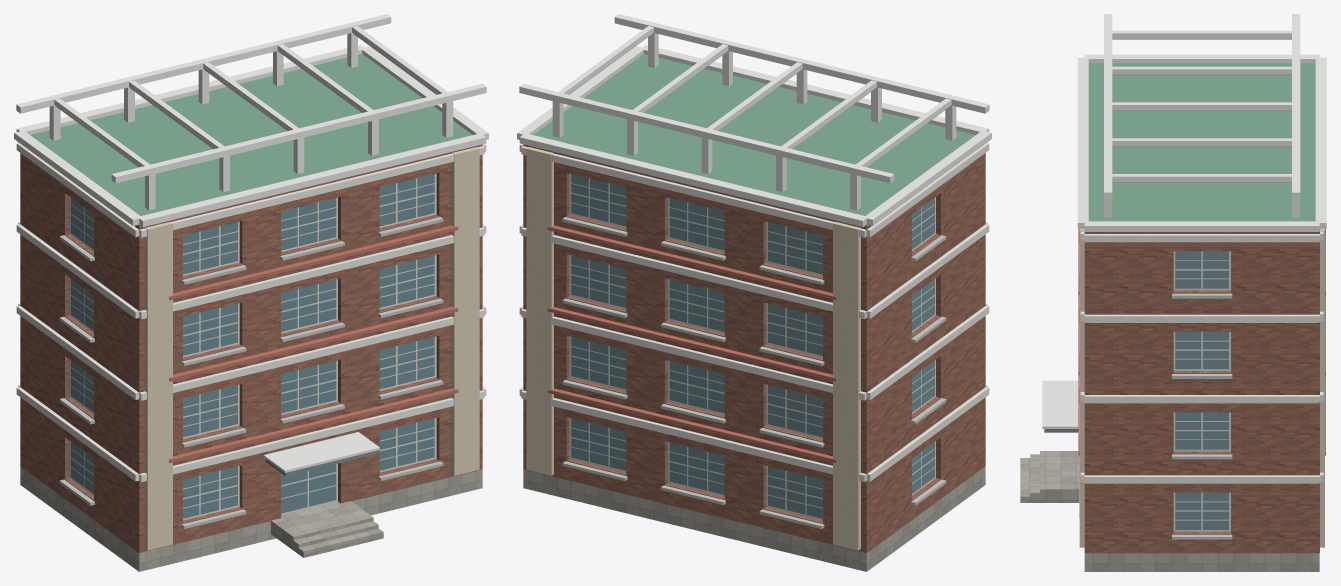
3 renders of one model, left to right at view 1: azimuth 30°, elevation 25°; view 2: azimuth 150°, elevation 25°; view 3: azimuth 270°, elevation 25°, orthographic.
Visible parts, largest first — view 1: bridge__brick, bridge__cap, bridge__roof, bridge__glass, bridge__rotundawall, bridge__band, bridge__frame, bridge__stone, bridge__terracotta, bridge__sill, bridge__sideglass, bridge__stair-front (+1 smaller); view 2: bridge__brick, bridge__roof, bridge__cap, bridge__glass, bridge__rotundawall, bridge__band, bridge__stone, bridge__frame, bridge__terracotta, bridge__sill, bridge__sideglass; view 3: bridge__brick, bridge__roof, bridge__cap, bridge__band, bridge__sideglass, bridge__stone, bridge__rotundawall, bridge__frame, bridge__steel, bridge__sill, bridge__threshold-front, bridge__stair-front (+1 smaller).
Part boxes in pixels (box(x1,y1,x2,y2)): bridge__brick: box(20, 144, 482, 552); bridge__cap: box(14, 14, 488, 472); bridge__roof: box(30, 54, 472, 226); bridge__glass: box(183, 174, 434, 518); bridge__rotundawall: box(145, 147, 479, 550); bridge__band: box(16, 142, 486, 482); bridge__frame: box(70, 173, 436, 520); bridge__stone: box(20, 466, 482, 571); bridge__terracotta: box(169, 225, 458, 462); bridge__sill: box(59, 217, 443, 529); bridge__sideglass: box(71, 197, 93, 493); bridge__stair-front: box(288, 514, 383, 557); bridge__brick: box(523, 144, 985, 552); bridge__roof: box(533, 54, 975, 226); bridge__cap: box(517, 14, 991, 226); bridge__glass: box(571, 174, 822, 518); bridge__rotundawall: box(526, 147, 860, 550); bridge__band: box(519, 142, 989, 482); bridge__stone: box(523, 466, 985, 571); bridge__frame: box(569, 173, 935, 520); bridge__terracotta: box(547, 225, 836, 462); bridge__sill: box(562, 217, 946, 529); bridge__sideglass: box(912, 197, 934, 493); bridge__brick: box(1084, 229, 1319, 553); bridge__roof: box(1088, 63, 1315, 221); bridge__cap: box(1042, 14, 1326, 428); bridge__band: box(1080, 231, 1323, 483); bridge__sideglass: box(1175, 251, 1228, 529); bridge__stone: box(1084, 553, 1319, 571); bridge__rotundawall: box(1079, 229, 1324, 547); bridge__frame: box(1173, 251, 1230, 531); bridge__steel: box(1112, 38, 1291, 182); bridge__sill: box(1079, 244, 1232, 539); bridge__threshold-front: box(1050, 451, 1079, 502); bridge__stair-front: box(1020, 451, 1049, 502).
Bounding box in the file's own units: 16.2 × 16.32 × 11.74.
Materials: 14 (3 with a texture image).
